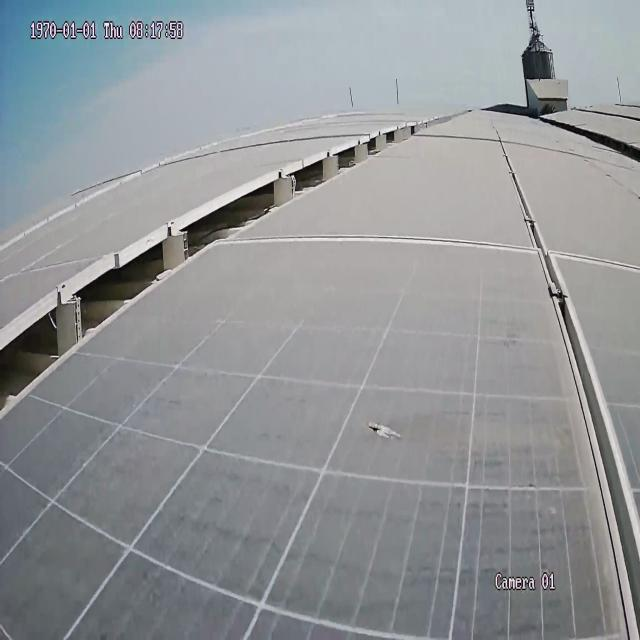interior panel: (497, 135, 638, 636), (253, 231, 526, 261), (557, 240, 633, 282)
outher panel: (1, 120, 436, 415), (549, 120, 639, 168)
